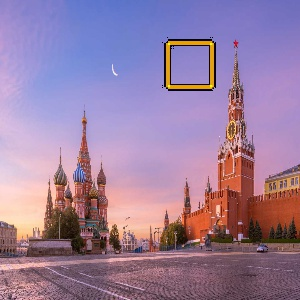square: (163, 38, 216, 92)
